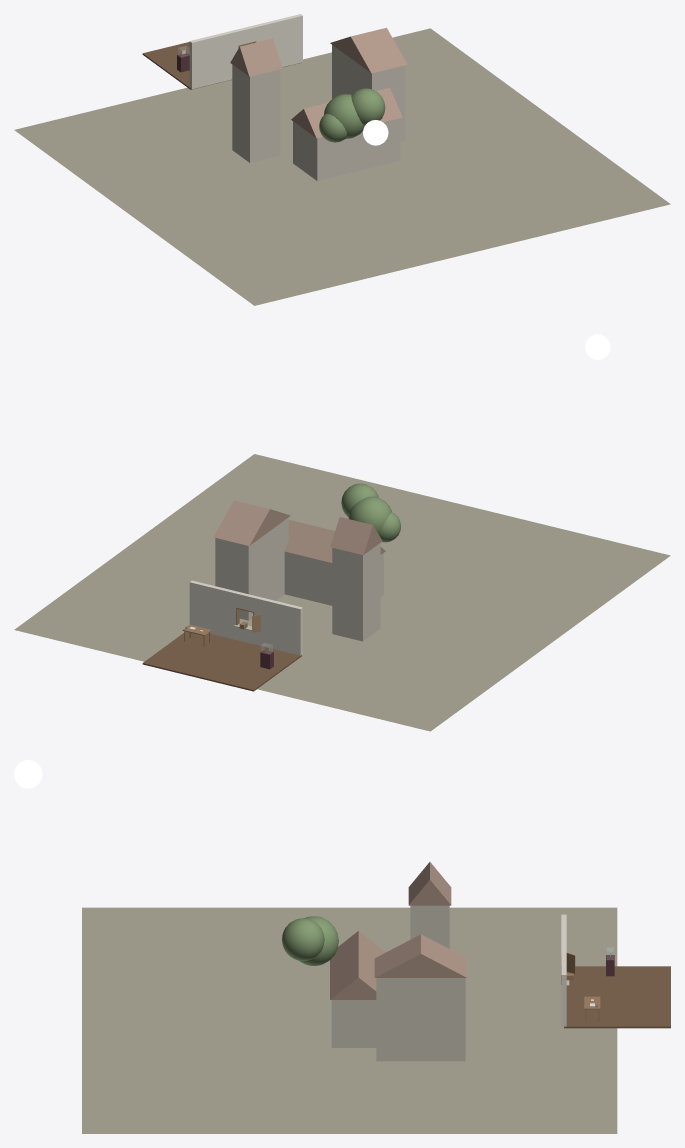
3 views of the same model, one above another, from view 1: azimuth 30°, elevation 25°; view 2: azimuth 150°, elevation 25°; view 3: azimuth 270°, elevation 25° (orthographic). The views are drawn at different scales.
Parts seen in each view (by area): view 1: courtyard_ground, bld_pigeonhouse, bld_barn, bld_wing, wall_left, bld_wing_roof, wall_right, bld_pigeonhouse_roof, bld_barn_roof, room_floor, tree_0, tree_1 (+2 smaller); view 2: courtyard_ground, room_floor, bld_pigeonhouse, bld_wing, wall_left, bld_barn, wall_right, bld_wing_roof, bld_barn_roof, bld_pigeonhouse_roof, tree_0, tree_1; view 3: courtyard_ground, bld_wing, room_floor, bld_wing_roof, bld_barn_roof, bld_barn, tree_1, bld_pigeonhouse, bld_pigeonhouse_roof, tree_0, sun.
Part boxes in pixels (<box>): courtyard_ground: <box>14,28,670,305</box>; bld_pigeonhouse: <box>232,64,280,162</box>; bld_barn: <box>293,118,400,180</box>; bld_wing: <box>332,45,405,141</box>; wall_left: <box>189,29,239,89</box>; bld_wing_roof: <box>330,27,407,73</box>; wall_right: <box>254,14,302,67</box>; bld_pigeonhouse_roof: <box>230,38,282,76</box>; bld_barn_roof: <box>291,88,402,138</box>; room_floor: <box>142,42,301,89</box>; tree_0: <box>324,94,364,138</box>; tree_1: <box>351,88,385,125</box>; courtyard_ground: <box>14,454,670,731</box>; room_floor: <box>142,631,301,691</box>; bld_pigeonhouse: <box>332,543,380,641</box>; bld_wing: <box>215,517,288,620</box>; wall_left: <box>253,596,302,655</box>; bld_barn: <box>284,551,383,605</box>; wall_right: <box>189,580,238,639</box>; bld_wing_roof: <box>213,500,290,545</box>; bld_barn_roof: <box>284,519,385,562</box>; bld_pigeonhouse_roof: <box>330,517,382,555</box>; tree_0: <box>348,496,391,534</box>; tree_1: <box>341,483,378,517</box>; courtyard_ground: <box>82,907,617,1133</box>; bld_wing: <box>376,978,465,1061</box>; room_floor: <box>564,966,670,1028</box>; bld_wing_roof: <box>374,934,467,977</box>; bld_barn_roof: <box>330,931,385,999</box>; bld_barn: <box>331,1000,376,1047</box>; tree_1: <box>281,918,324,960</box>; bld_pigeonhouse: <box>410,905,449,948</box>; bld_pigeonhouse_roof: <box>408,862,451,905</box>; tree_0: <box>299,916,338,965</box>; sun: <box>14,760,42,788</box>.
Bounding box in the file's own units: 30 × 12.3 × 36.8.
